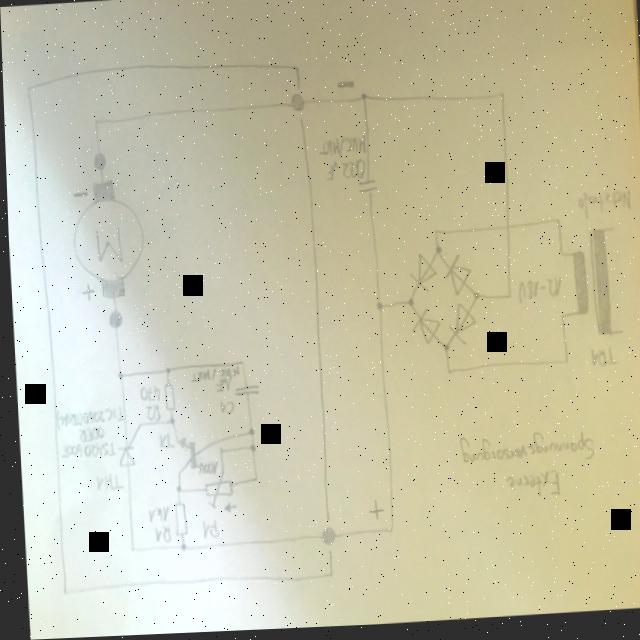capacitor: (230, 383, 257, 400), (355, 181, 376, 199)
crossover: (501, 226, 509, 237)
diode: (444, 306, 474, 350), (406, 257, 435, 297), (441, 258, 469, 299), (408, 312, 438, 349)
junction: (372, 303, 381, 315), (358, 94, 366, 107), (430, 248, 440, 258), (243, 428, 251, 440), (383, 528, 391, 538), (174, 544, 182, 554), (244, 445, 252, 455), (439, 346, 447, 356), (164, 417, 171, 428), (113, 372, 121, 381), (555, 254, 563, 263), (404, 301, 411, 311), (171, 486, 177, 497), (160, 368, 168, 376), (214, 448, 221, 457), (470, 295, 477, 304), (552, 221, 559, 230), (125, 545, 131, 555), (442, 372, 449, 380), (498, 96, 505, 104), (91, 118, 97, 127), (556, 318, 563, 325), (430, 232, 436, 240), (133, 422, 139, 429), (249, 478, 255, 485), (503, 297, 509, 304), (560, 362, 566, 369), (236, 360, 241, 367)
resistor: (199, 473, 229, 510), (168, 502, 184, 539), (158, 383, 173, 414)
terminal: (615, 333, 621, 341), (609, 231, 613, 237)
text: (453, 433, 591, 472), (574, 192, 631, 225), (500, 472, 557, 505), (52, 406, 121, 431), (514, 279, 561, 309), (315, 136, 364, 160), (323, 159, 364, 185), (56, 442, 112, 460), (186, 367, 236, 384), (585, 350, 613, 373), (90, 472, 119, 493), (73, 426, 101, 443), (135, 385, 157, 404), (143, 506, 165, 525), (197, 520, 215, 541), (192, 462, 214, 478), (149, 526, 167, 544), (212, 378, 229, 395), (154, 433, 171, 450), (141, 404, 157, 422), (215, 401, 231, 417)
thyristor: (113, 442, 132, 469)
transformer: (566, 232, 611, 344)
transistor: (171, 438, 194, 476)
